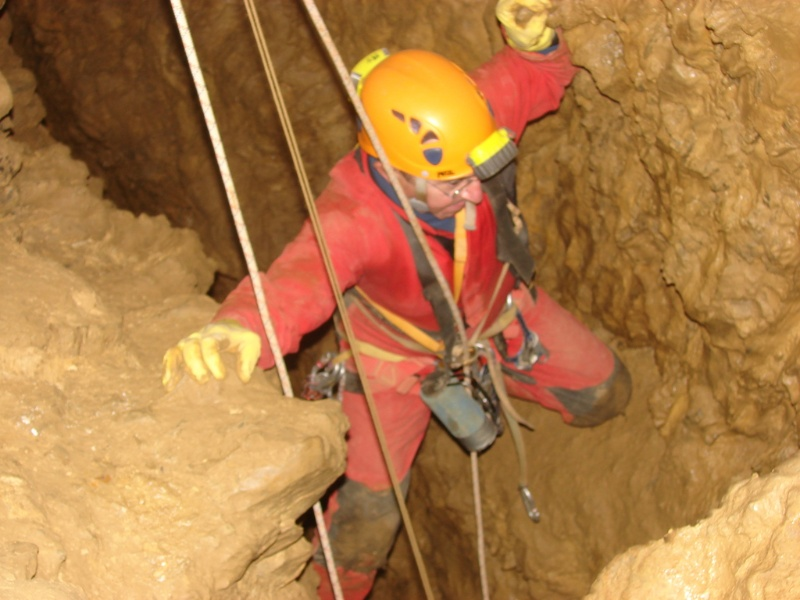Baret: (356, 48, 496, 179)
